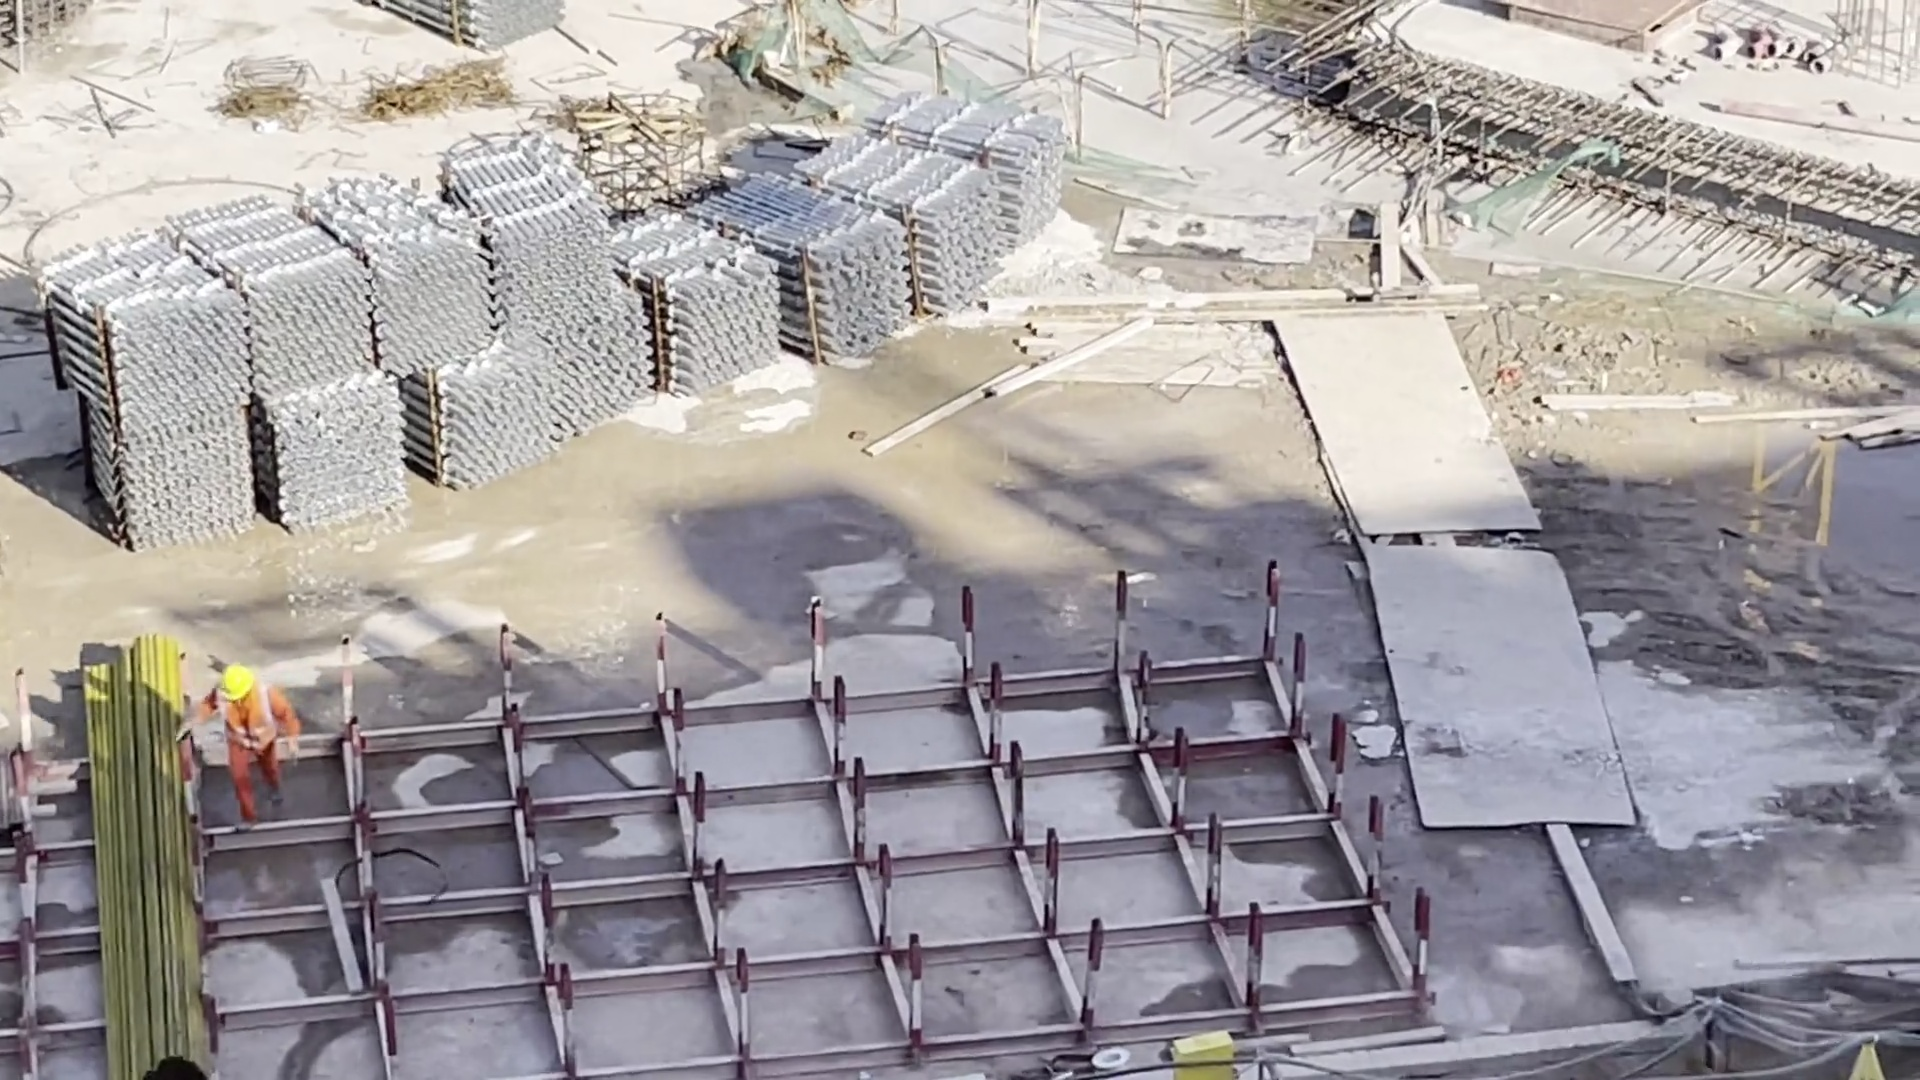helmet: (209, 667, 260, 715)
person: (189, 665, 288, 835)
scaffold: (41, 91, 1078, 556)
vest: (213, 703, 284, 747)
